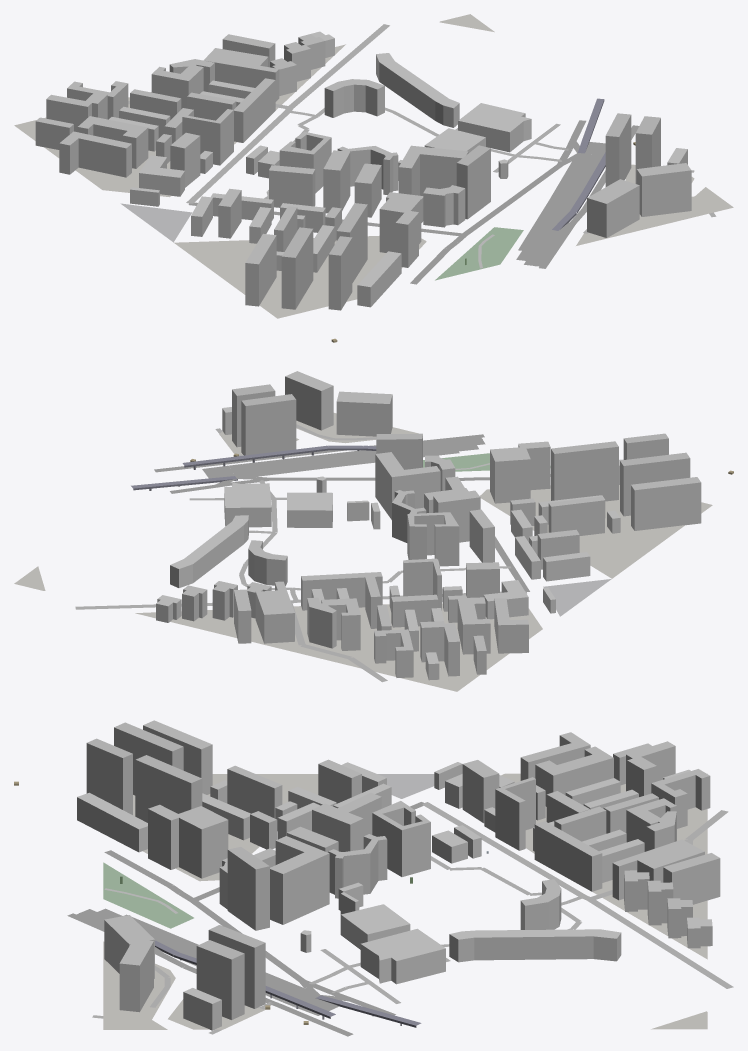
3 views of the same model, one above another, from view 1: azimuth 30°, elevation 25°; view 2: azimuth 150°, elevation 25°; view 3: azimuth 270°, elevation 25° (orthographic). The views are drawn at different scales.
Size of the model in its own units: 530 by 59.48 by 595.
